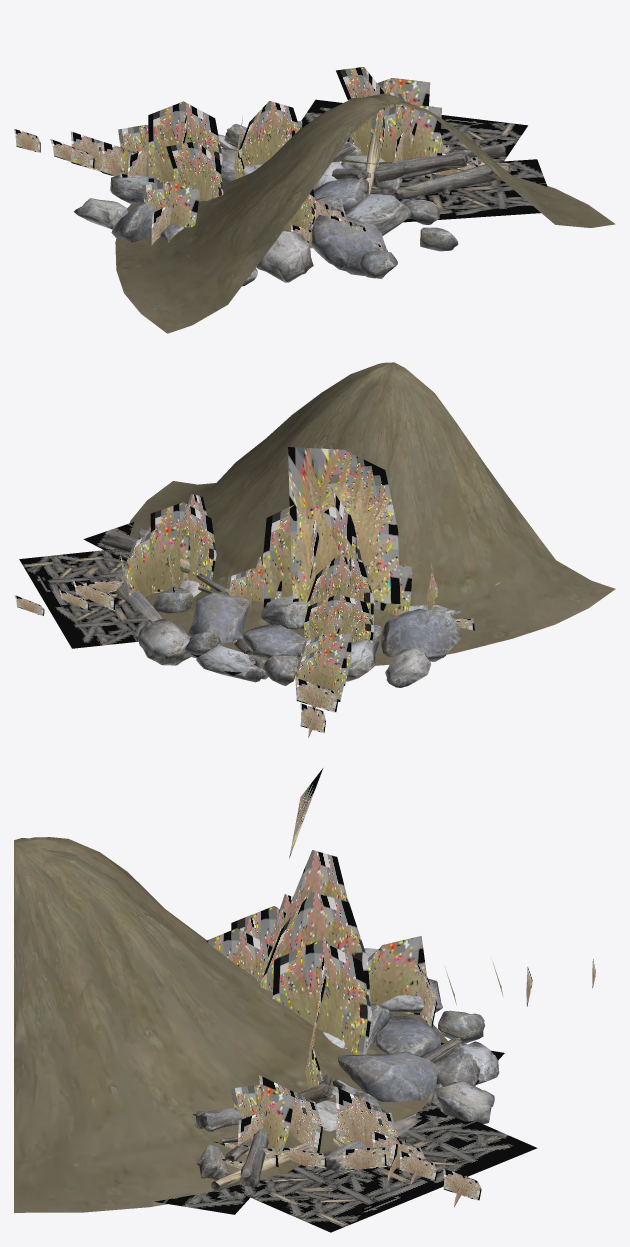
File: dirt_mound_300_end.glb
The picture shows the model from 3 angles, top to bottom: view 1: azimuth 30°, elevation 25°; view 2: azimuth 150°, elevation 25°; view 3: azimuth 270°, elevation 25°; orthographic projection. The views are drawn at different scales.
Visible parts, largest first — view 1: dirt_mound_300_end_LOD0, cracks_grass_g_arid (9), cave_gravel_a (15), driftwood_set_2_LOD0, cracks_grass_d_arid (12); view 2: dirt_mound_300_end_LOD0, cracks_grass_g_arid (9), cave_gravel_a (15), driftwood_set_2_LOD0, cracks_grass_d_arid (12); view 3: dirt_mound_300_end_LOD0, cracks_grass_g_arid (9), driftwood_set_2_LOD0, cave_gravel_a (15), cracks_grass_d_arid (12).
Part boxes in pixels (<box>): dirt_mound_300_end_LOD0: <box>115,93,615,333</box>; cracks_grass_g_arid (9): <box>14,101,383,262</box>; cave_gravel_a (15): <box>73,120,458,286</box>; driftwood_set_2_LOD0: <box>219,99,547,222</box>; cracks_grass_d_arid (12): <box>336,67,482,184</box>; dirt_mound_300_end_LOD0: <box>128,362,615,665</box>; cracks_grass_g_arid (9): <box>225,447,474,737</box>; cave_gravel_a (15): <box>137,580,500,687</box>; driftwood_set_2_LOD0: <box>19,522,268,679</box>; cracks_grass_d_arid (12): <box>14,494,216,616</box>; dirt_mound_300_end_LOD0: <box>14,837,447,1212</box>; cracks_grass_g_arid (9): <box>206,768,595,1054</box>; driftwood_set_2_LOD0: <box>154,1037,537,1232</box>; cave_gravel_a (15): <box>316,948,499,1131</box>; cracks_grass_d_arid (12): <box>214,1009,481,1206</box>.
Size of the model in its own units: 6.46 by 2.57 by 5.36.
5 materials, 5 textured.
